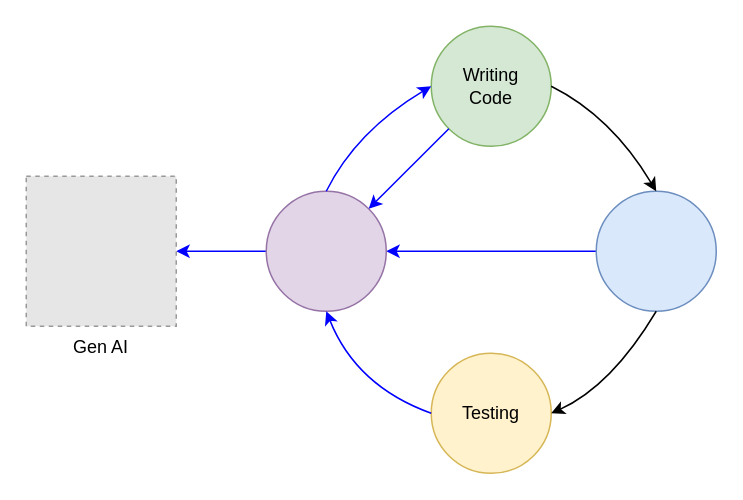
Image size: 743x500. Some labels were removed from this diagram. Grey dashed boxes stand in for pictures. Each missing label, with the box of its shape:
Compilation: (595, 190, 716, 311)
Test Generation: (265, 190, 386, 311)
